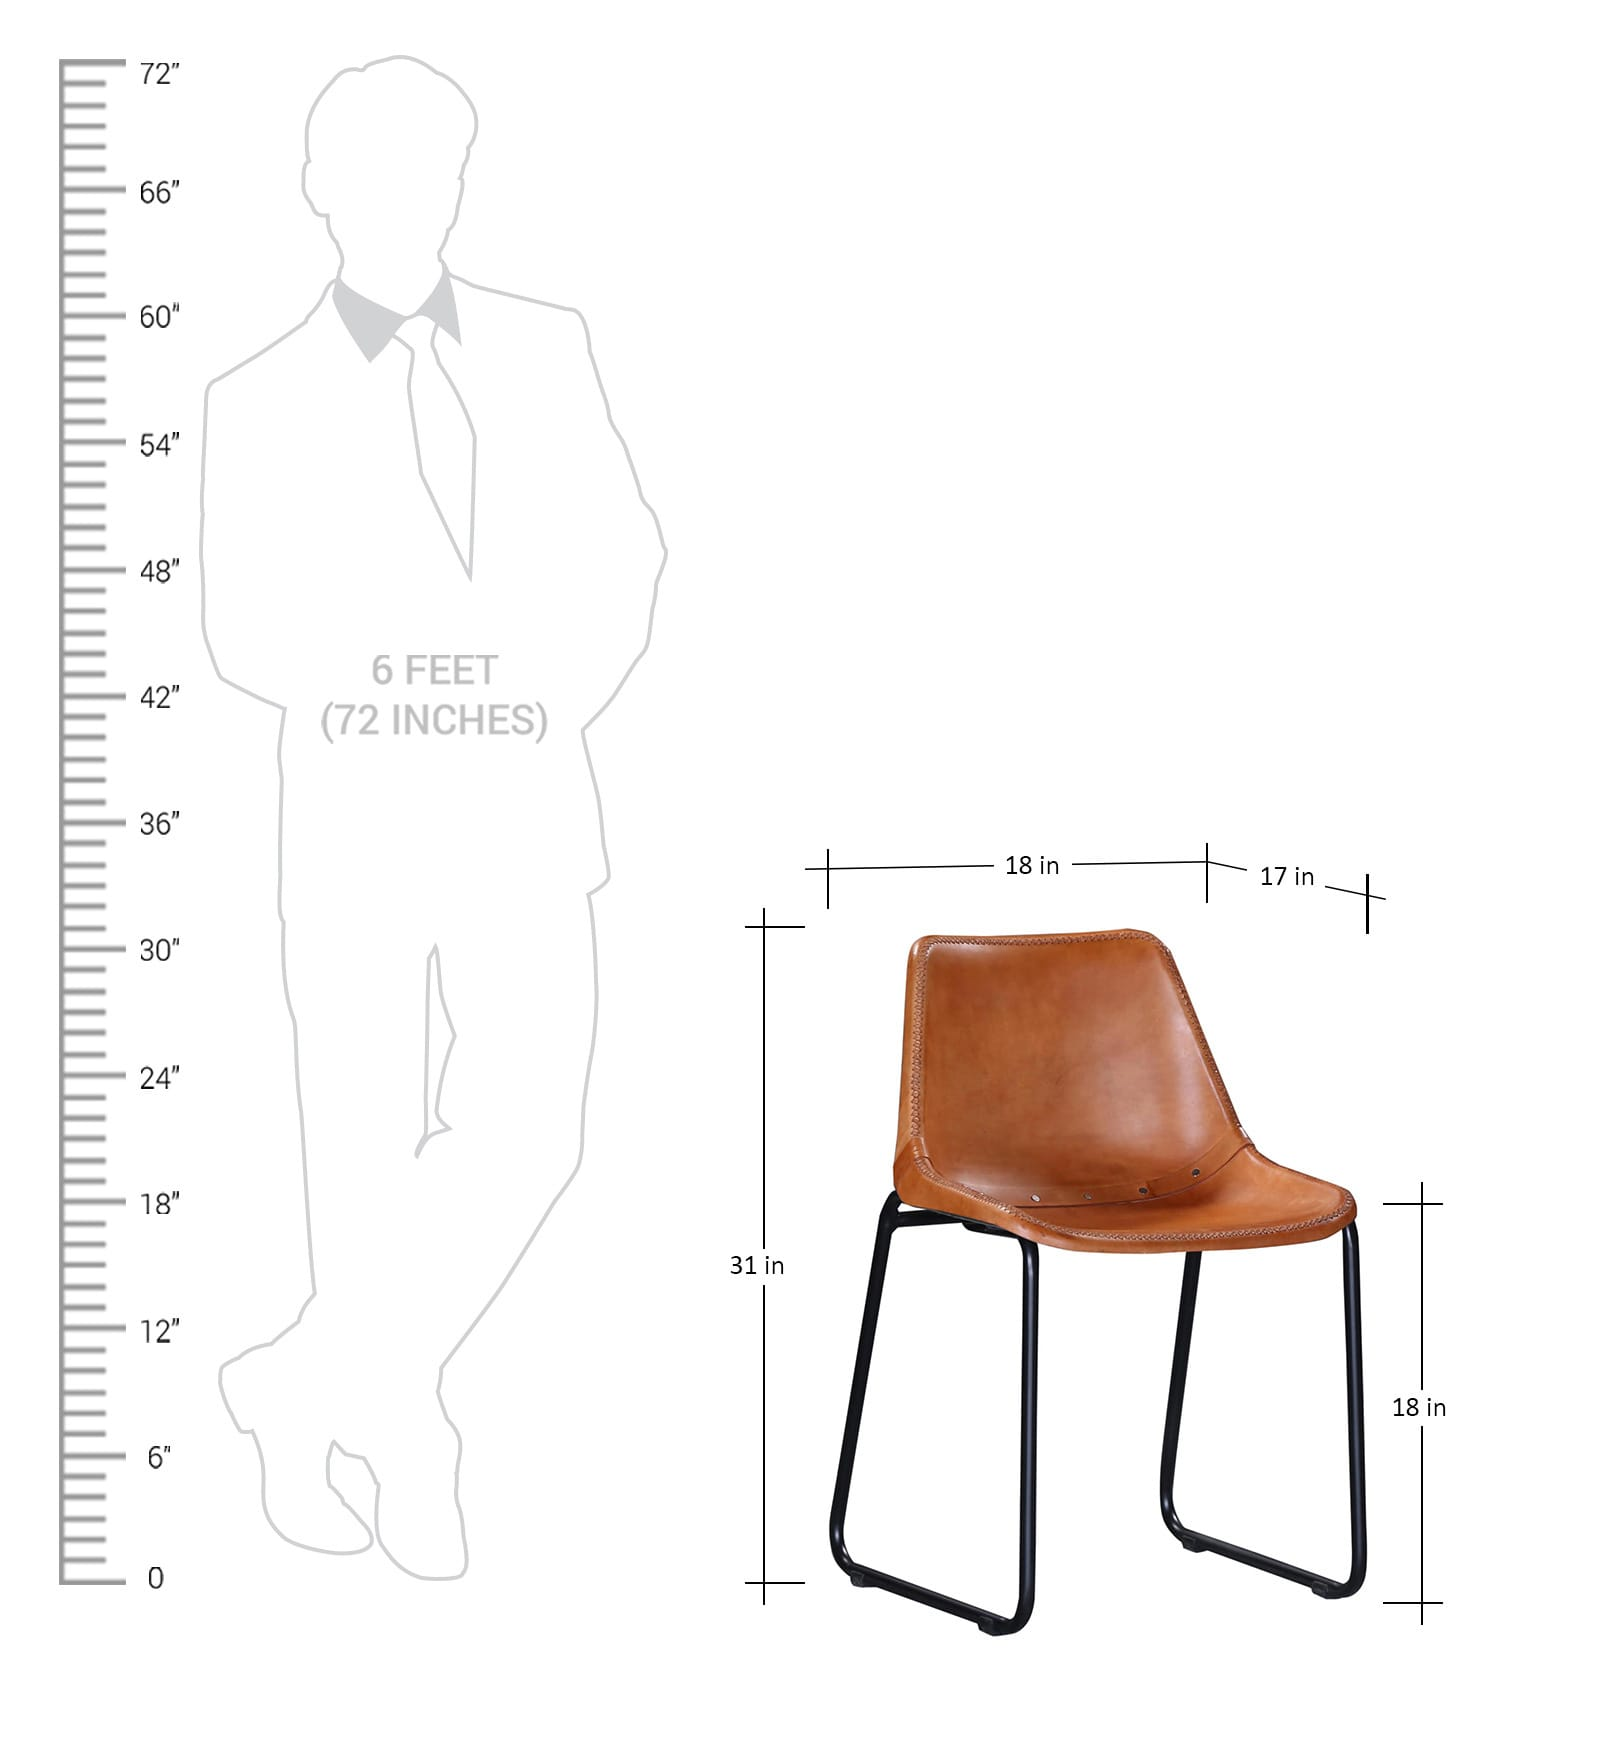Medina Natural Color Leather Accent Chair by Bohemiana: (834, 918, 1375, 1637)
